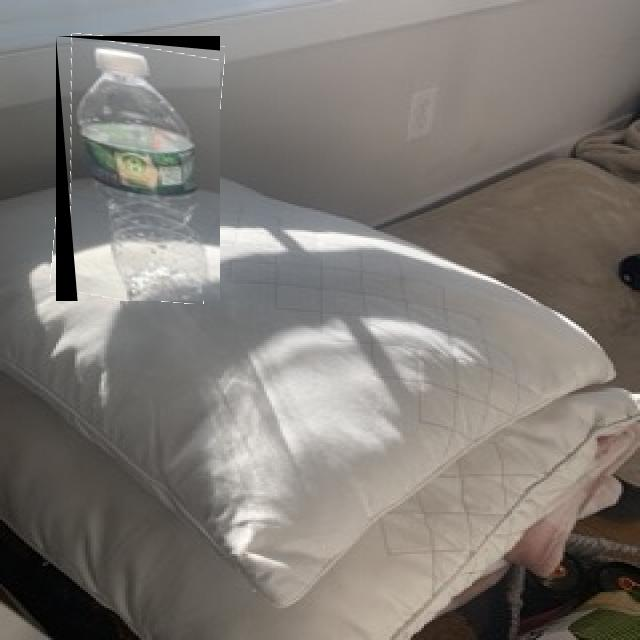water_bottle: (56, 36, 220, 301)
